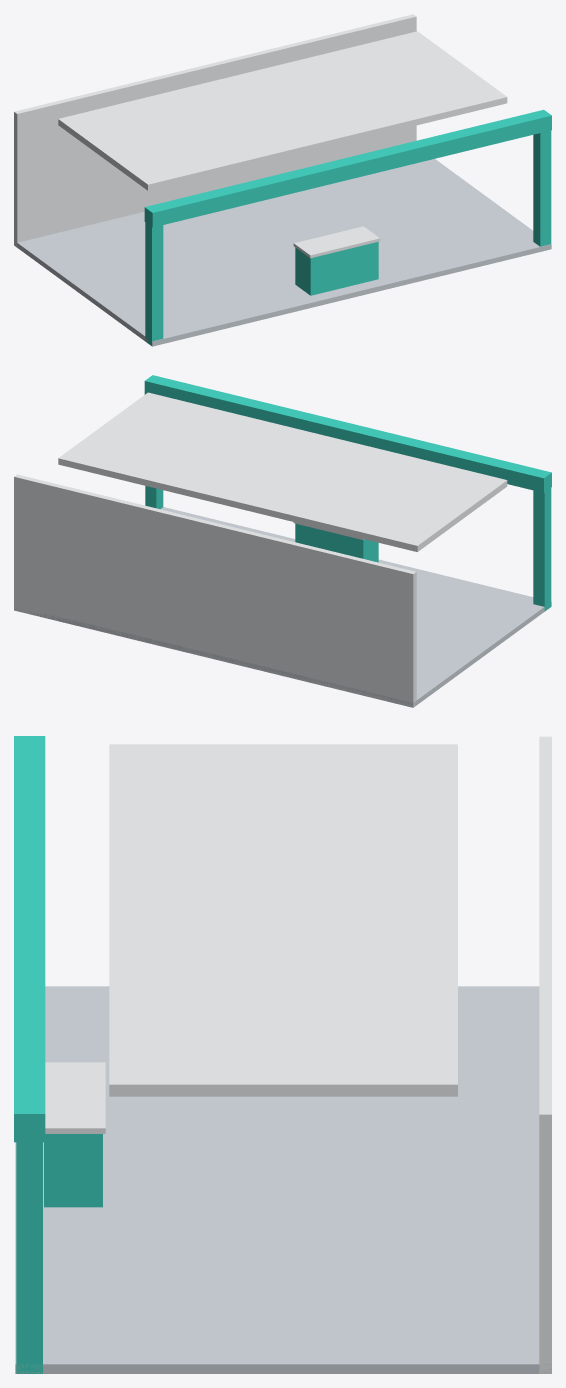
3 renders of one model, top to bottom at view 1: azimuth 30°, elevation 25°; view 2: azimuth 150°, elevation 25°; view 3: azimuth 270°, elevation 25°, orthographic. The views are drawn at different scales.
Parts seen in each view (by area): view 1: Exhibition Booth Concept; view 2: Exhibition Booth Concept; view 3: Exhibition Booth Concept.
Part boxes in pixels (bbox=[...]): Exhibition Booth Concept: bbox=[14, 14, 551, 346]; Exhibition Booth Concept: bbox=[14, 375, 551, 707]; Exhibition Booth Concept: bbox=[14, 736, 551, 1373].
Bounding box in the file's own units: 10 × 3.34 × 6.02.
